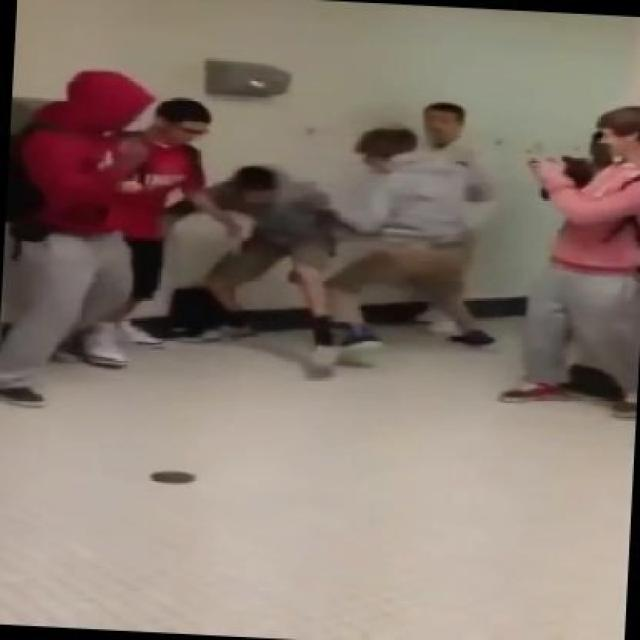fight: (154, 126, 498, 367)
non-fight: (0, 69, 142, 405), (500, 105, 640, 405), (117, 99, 238, 344)
